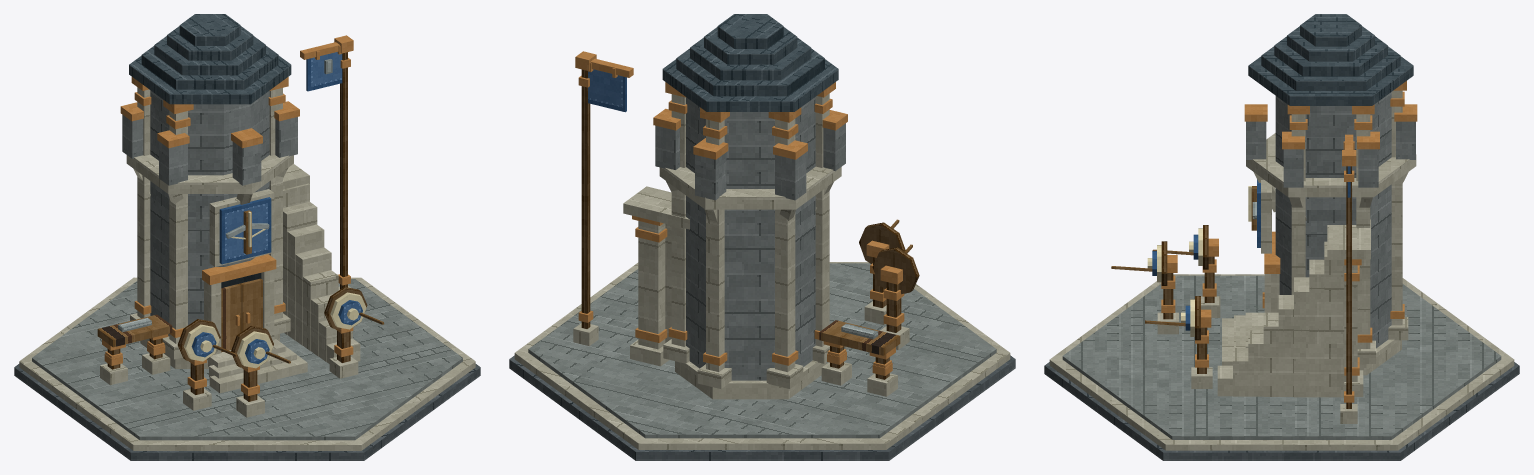
File: dwarf_ranger_mastery_hex_v1.glb
The picture shows the model from 3 angles, left to right: view 1: azimuth 30°, elevation 25°; view 2: azimuth 150°, elevation 25°; view 3: azimuth 270°, elevation 25°; orthographic projection. The views are drawn at different scales.
Visible parts, largest first — view 1: Dwarf_Ranger_Mastery_Hex_V1_Foundation, Dwarf_Ranger_Mastery_Hex_V1_Hall, Dwarf_Ranger_Mastery_Hex_V1_Roofs, Dwarf_Ranger_Mastery_Hex_V1_Courtyard, Dwarf_Ranger_Mastery_Hex_V1_Training, Dwarf_Ranger_Mastery_Hex_V1_Focus, Dwarf_Ranger_Mastery_Hex_V1_Faction, Dwarf_Ranger_Mastery_Hex_V1_Details; view 2: Dwarf_Ranger_Mastery_Hex_V1_Foundation, Dwarf_Ranger_Mastery_Hex_V1_Hall, Dwarf_Ranger_Mastery_Hex_V1_Roofs, Dwarf_Ranger_Mastery_Hex_V1_Focus, Dwarf_Ranger_Mastery_Hex_V1_Training, Dwarf_Ranger_Mastery_Hex_V1_Courtyard, Dwarf_Ranger_Mastery_Hex_V1_Faction, Dwarf_Ranger_Mastery_Hex_V1_Details; view 3: Dwarf_Ranger_Mastery_Hex_V1_Foundation, Dwarf_Ranger_Mastery_Hex_V1_Hall, Dwarf_Ranger_Mastery_Hex_V1_Courtyard, Dwarf_Ranger_Mastery_Hex_V1_Roofs, Dwarf_Ranger_Mastery_Hex_V1_Focus, Dwarf_Ranger_Mastery_Hex_V1_Training, Dwarf_Ranger_Mastery_Hex_V1_Faction, Dwarf_Ranger_Mastery_Hex_V1_Details.
Boxes of the visible parts, x1=… form: Dwarf_Ranger_Mastery_Hex_V1_Foundation: x1=14, y1=277, x2=480, y2=460; Dwarf_Ranger_Mastery_Hex_V1_Hall: x1=130, y1=77, x2=290, y2=368; Dwarf_Ranger_Mastery_Hex_V1_Roofs: x1=129, y1=14, x2=291, y2=104; Dwarf_Ranger_Mastery_Hex_V1_Courtyard: x1=208, y1=163, x2=360, y2=393; Dwarf_Ranger_Mastery_Hex_V1_Training: x1=97, y1=287, x2=384, y2=417; Dwarf_Ranger_Mastery_Hex_V1_Focus: x1=120, y1=101, x2=299, y2=204; Dwarf_Ranger_Mastery_Hex_V1_Faction: x1=209, y1=35, x2=353, y2=290; Dwarf_Ranger_Mastery_Hex_V1_Details: x1=104, y1=58, x2=353, y2=395; Dwarf_Ranger_Mastery_Hex_V1_Foundation: x1=509, y1=262, x2=1015, y2=460; Dwarf_Ranger_Mastery_Hex_V1_Hall: x1=663, y1=82, x2=835, y2=399; Dwarf_Ranger_Mastery_Hex_V1_Roofs: x1=662, y1=14, x2=838, y2=111; Dwarf_Ranger_Mastery_Hex_V1_Focus: x1=653, y1=108, x2=847, y2=221; Dwarf_Ranger_Mastery_Hex_V1_Training: x1=819, y1=219, x2=919, y2=396; Dwarf_Ranger_Mastery_Hex_V1_Courtyard: x1=623, y1=186, x2=847, y2=366; Dwarf_Ranger_Mastery_Hex_V1_Faction: x1=573, y1=51, x2=633, y2=346; Dwarf_Ranger_Mastery_Hex_V1_Details: x1=578, y1=75, x2=904, y2=375; Dwarf_Ranger_Mastery_Hex_V1_Foundation: x1=1044, y1=274, x2=1519, y2=460; Dwarf_Ranger_Mastery_Hex_V1_Hall: x1=1264, y1=81, x2=1408, y2=375; Dwarf_Ranger_Mastery_Hex_V1_Courtyard: x1=1217, y1=219, x2=1370, y2=397; Dwarf_Ranger_Mastery_Hex_V1_Roofs: x1=1248, y1=14, x2=1413, y2=105; Dwarf_Ranger_Mastery_Hex_V1_Focus: x1=1244, y1=104, x2=1417, y2=220; Dwarf_Ranger_Mastery_Hex_V1_Training: x1=1111, y1=225, x2=1220, y2=388; Dwarf_Ranger_Mastery_Hex_V1_Faction: x1=1248, y1=134, x2=1357, y2=423; Dwarf_Ranger_Mastery_Hex_V1_Details: x1=1161, y1=91, x2=1404, y2=402.
Bounding box in the file's own units: 1.59 × 1.46 × 1.84.
Materials: 1 (1 with a texture image).
